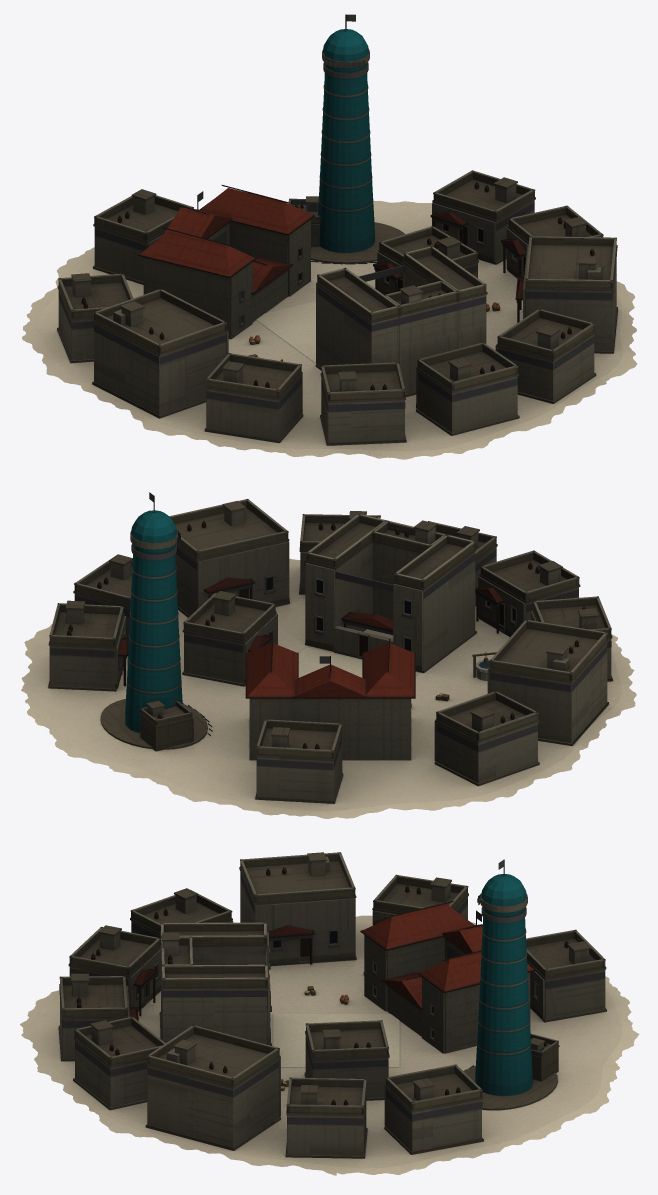
Rendered from gunpowder-town-medium-a-steppe.glb.
3 views of the same model, one above another, from view 1: azimuth 30°, elevation 25°; view 2: azimuth 150°, elevation 25°; view 3: azimuth 270°, elevation 25° (orthographic).
Visible parts, largest first — view 1: LOD0; view 2: LOD0; view 3: LOD0.
Part boxes in pixels (x1=…): LOD0: x1=22, y1=14, x2=637, y2=459; LOD0: x1=21, y1=492, x2=636, y2=818; LOD0: x1=20, y1=852, x2=639, y2=1175.
Size of what is drawn, in the model's own units: 6.02 by 2.4 by 5.99.
Materials: 3 (3 with a texture image).
